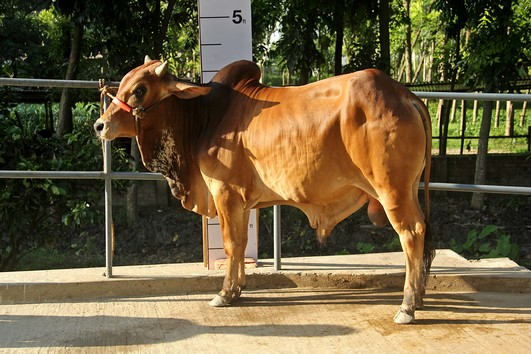cow: (89, 45, 441, 335)
